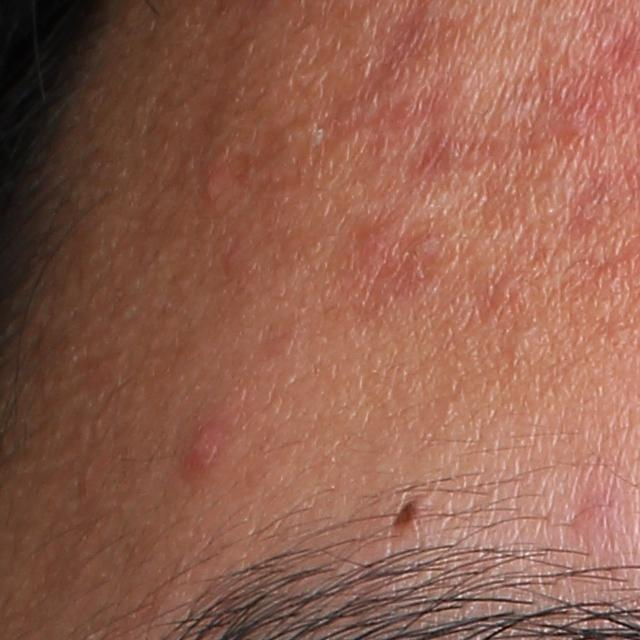nevus: (390, 497, 427, 534)
papule: (180, 419, 230, 479), (204, 167, 228, 206)
